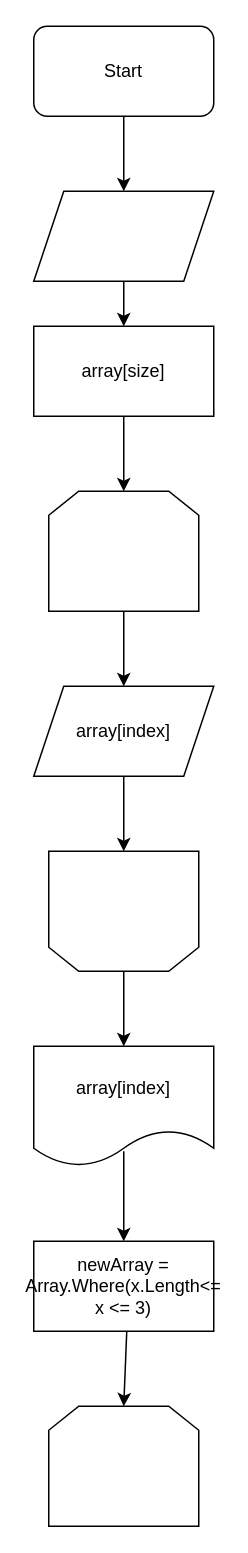
Some shapes in this 248 by 1553 pixel diagram are drawn without their labels. The box of each missing label's shape, as (x1, y1, x2, y2) in pixels:
index = 0, size - 1: (47, 490, 199, 611)
index = index + 1: (47, 850, 199, 971)
size: (32, 190, 214, 281)
